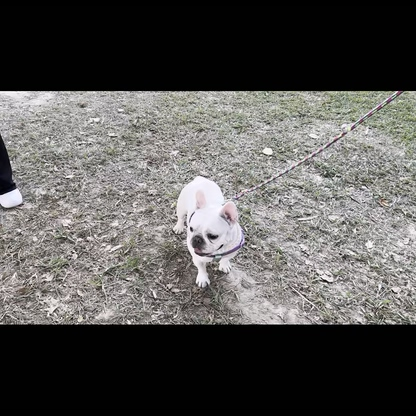bulldog: (172, 174, 247, 291)
